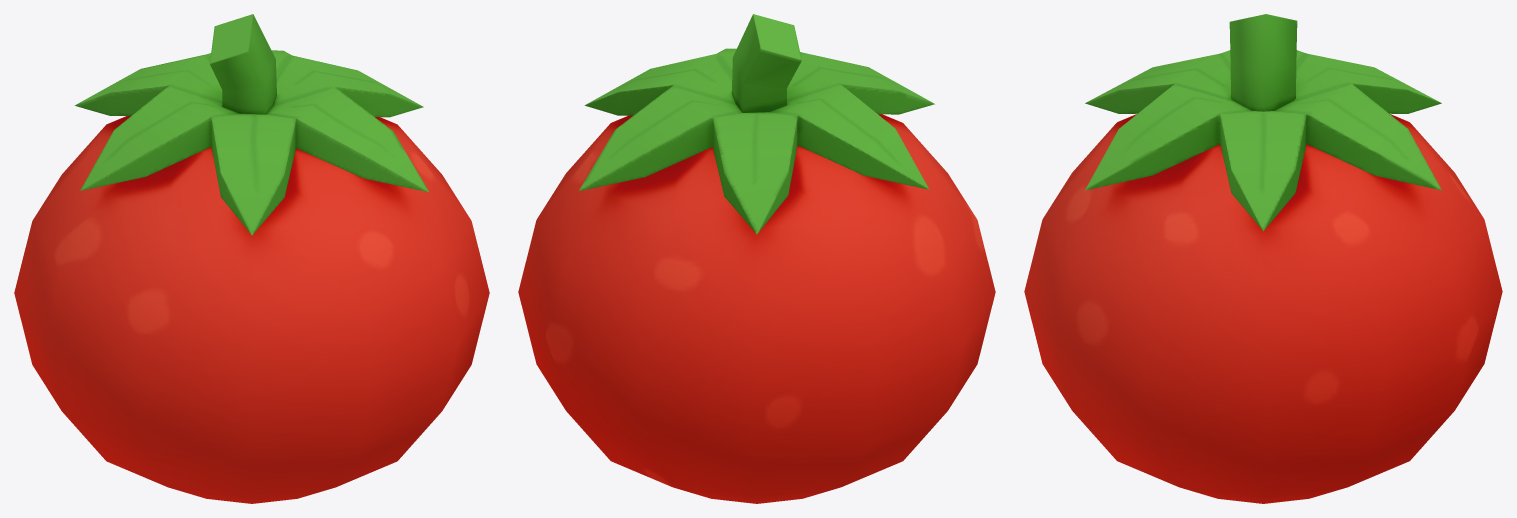
The model's file is Food_Vegetables_Tomato.gltf.
3 views of the same model, side by side, from view 1: azimuth 30°, elevation 25°; view 2: azimuth 150°, elevation 25°; view 3: azimuth 270°, elevation 25° (orthographic).
Parts seen in each view (by area): view 1: Food_Vegetables_Tomato; view 2: Food_Vegetables_Tomato; view 3: Food_Vegetables_Tomato.
Part boxes in pixels (bbox=[...]): Food_Vegetables_Tomato: bbox=[14, 14, 489, 503]; Food_Vegetables_Tomato: bbox=[518, 14, 995, 503]; Food_Vegetables_Tomato: bbox=[1024, 14, 1502, 503].
Bounding box in the file's own units: 0.1257 × 0.1357 × 0.1257.
1 material, 1 textured.
